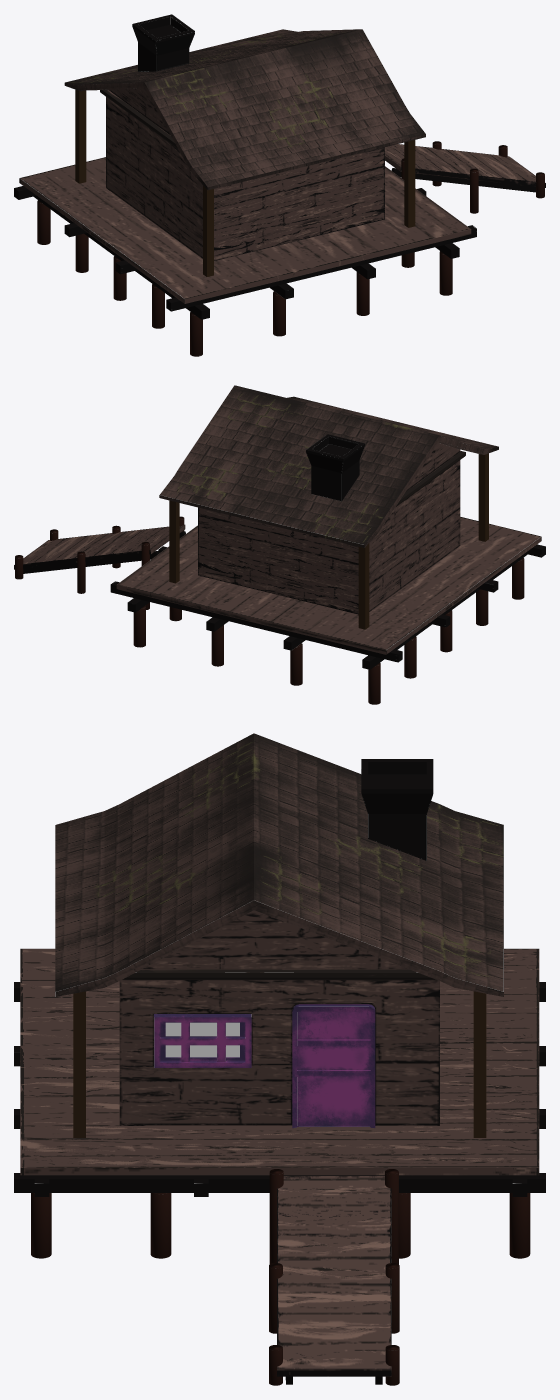
Rendered from witch hut.fbx.
3 renders of one model, top to bottom at view 1: azimuth 30°, elevation 25°; view 2: azimuth 150°, elevation 25°; view 3: azimuth 270°, elevation 25°, orthographic. The views are drawn at different scales.
Visible parts, largest first — view 1: base, platforms, wood posts, wood support beams, pillars, chimney; view 2: base, platforms, wood posts, wood support beams, chimney, pillars; view 3: base, platforms, door, wood posts, wood support beams, chimney, window, pillars.
Boxes of the visible parts, <box> form: base: <box>64,29,425,260</box>; platforms: <box>19,144,545,303</box>; wood posts: <box>37,141,544,356</box>; wood support beams: <box>14,168,535,319</box>; pillars: <box>75,89,415,276</box>; chimney: <box>132,14,194,71</box>; base: <box>159,385,498,614</box>; platforms: <box>14,517,541,654</box>; wood posts: <box>15,516,524,704</box>; wood support beams: <box>23,531,545,669</box>; chimney: <box>306,434,364,501</box>; pillars: <box>169,453,488,629</box>; base: <box>55,733,503,1125</box>; platforms: <box>20,948,539,1376</box>; door: <box>292,1004,375,1128</box>; wood posts: <box>31,1169,530,1385</box>; wood support beams: <box>14,982,545,1384</box>; chimney: <box>361,759,433,860</box>; window: <box>154,1014,251,1067</box>; pillars: <box>73,991,486,1137</box>.
Bounding box in the file's own units: 750 × 354 × 487.
